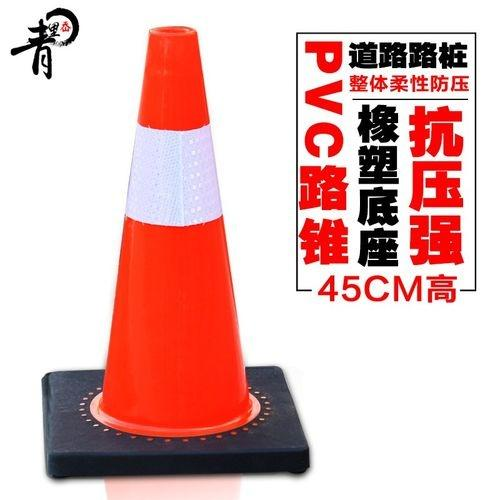cone_barrel: (82, 26, 267, 441)
